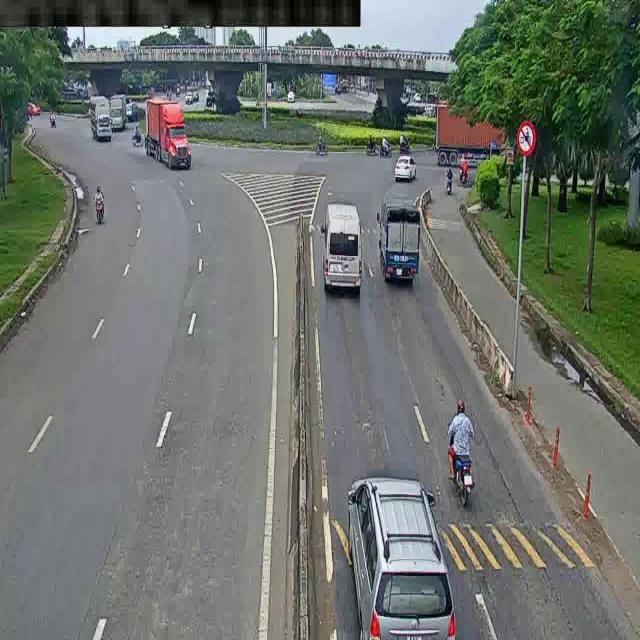car: (337, 478, 458, 640), (319, 198, 379, 298), (375, 191, 428, 295), (391, 156, 415, 187), (18, 97, 46, 120)
motorbike: (437, 405, 493, 496), (90, 176, 116, 222), (360, 128, 376, 158), (314, 135, 332, 159), (396, 135, 413, 155), (375, 138, 394, 152), (446, 166, 452, 191)
truck: (434, 95, 534, 159), (138, 95, 195, 165), (87, 92, 119, 147), (107, 92, 132, 128)
